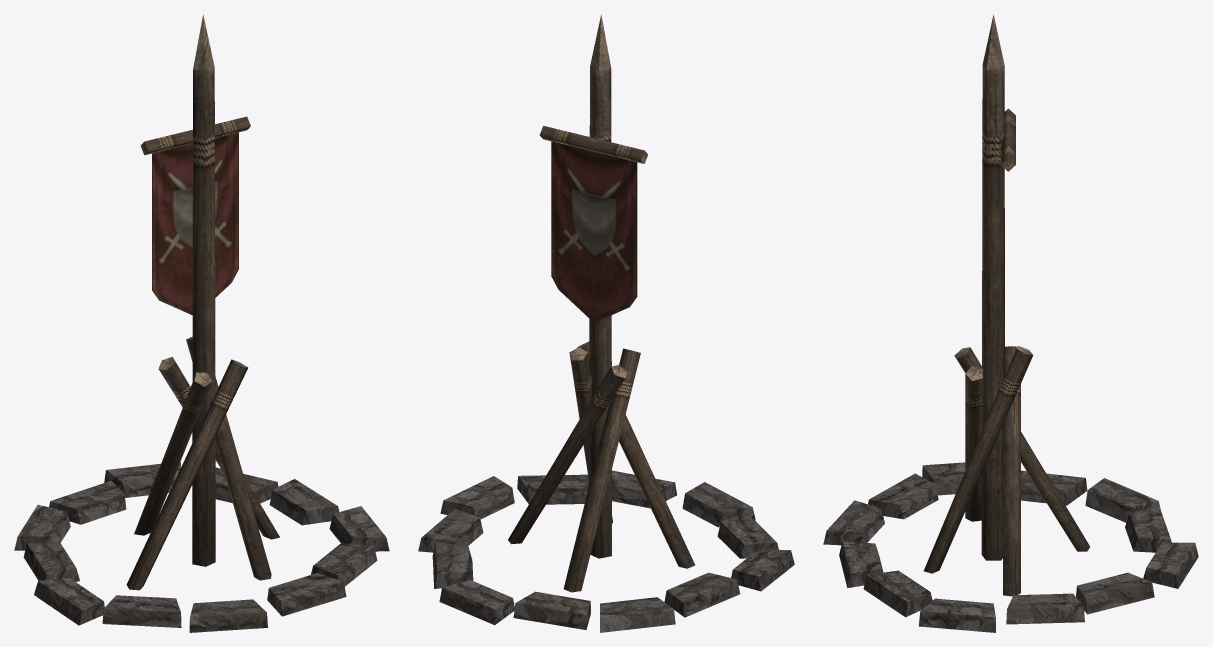
File: SC_tamalagebi_39.FBX
3 renders of one model, left to right at view 1: azimuth 30°, elevation 25°; view 2: azimuth 150°, elevation 25°; view 3: azimuth 270°, elevation 25°, orthographic.
Visible parts, largest first — view 1: SC_tamalagebi_39; view 2: SC_tamalagebi_39; view 3: SC_tamalagebi_39.
Boxes of the visible parts, bbox=[...] form: SC_tamalagebi_39: bbox=[14, 14, 389, 632]; SC_tamalagebi_39: bbox=[418, 15, 794, 632]; SC_tamalagebi_39: bbox=[823, 15, 1198, 632].
Size of the model in its own units: 298 by 476 by 298.
